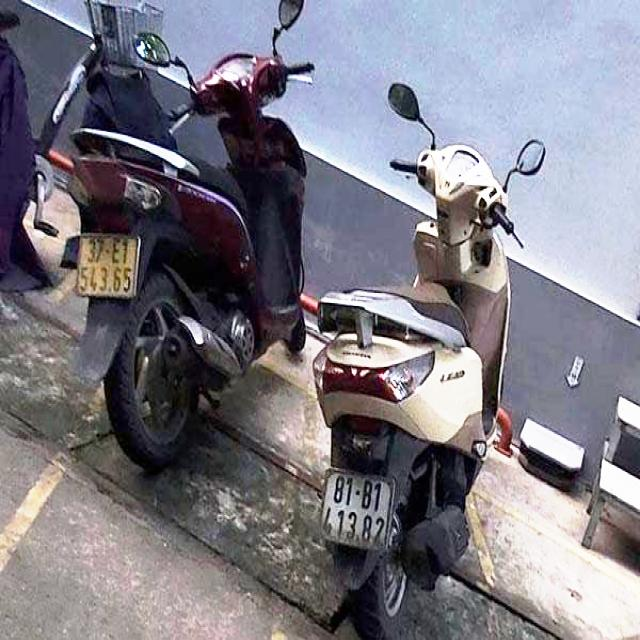license_plate: (319, 466, 393, 555), (78, 235, 142, 298)
